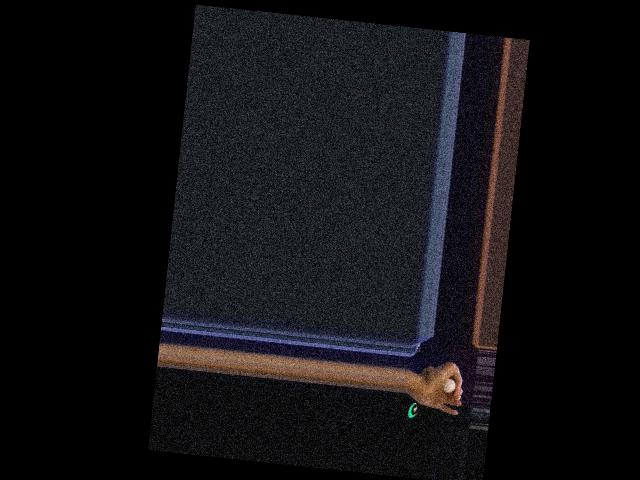egg: (443, 377, 456, 393)
